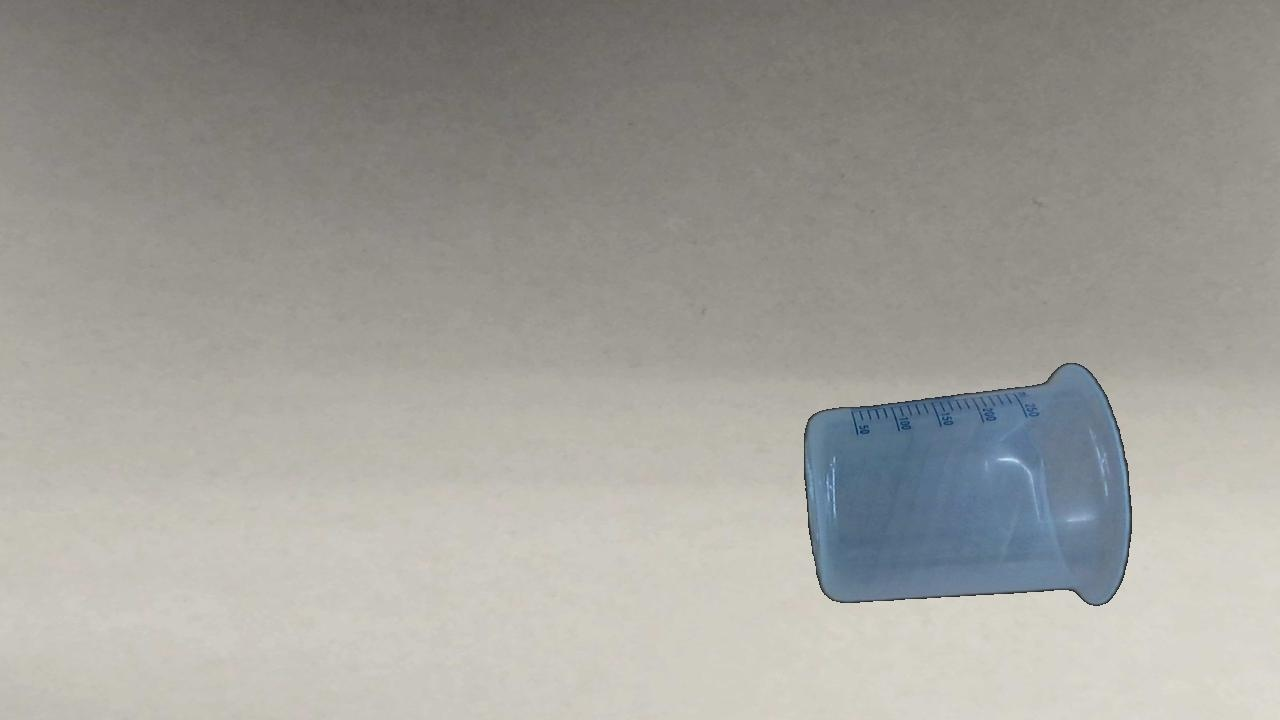becker: (803, 360, 1133, 609)
